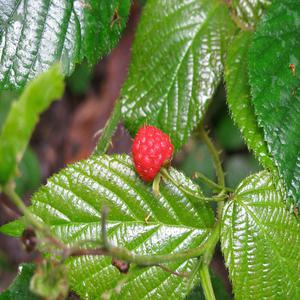raspb: (121, 120, 183, 186)
